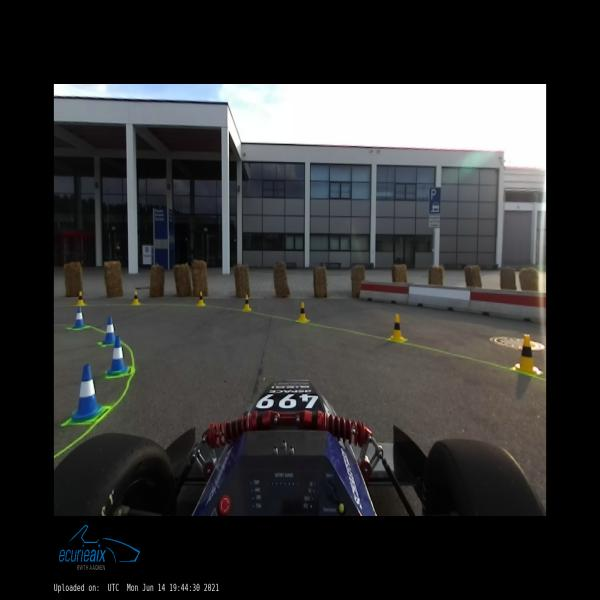blue_cone: (72, 364, 101, 420), (108, 336, 127, 375), (103, 316, 115, 344), (73, 306, 85, 328)
yellow_cone: (513, 334, 541, 375), (391, 314, 403, 340), (298, 302, 307, 322), (132, 290, 140, 305), (243, 295, 251, 310), (198, 290, 205, 305), (77, 291, 84, 305)
